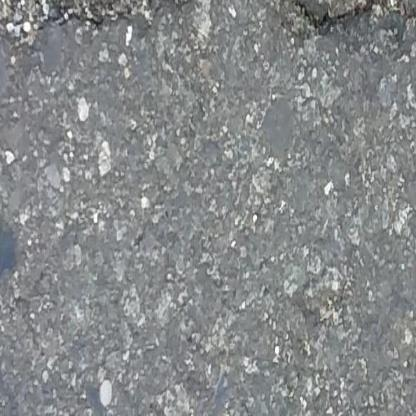Cracks: (0, 0, 214, 49), (251, 0, 416, 57)
